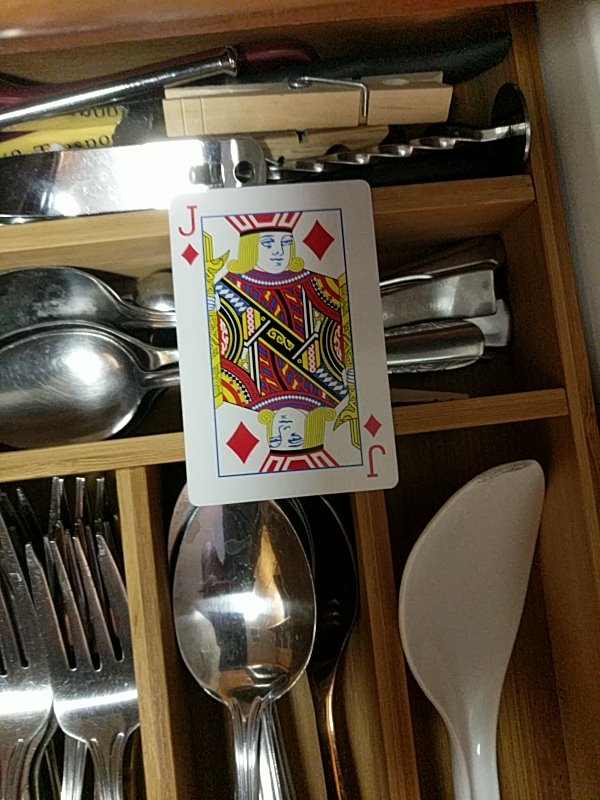Diamonds: (168, 180, 401, 504)
